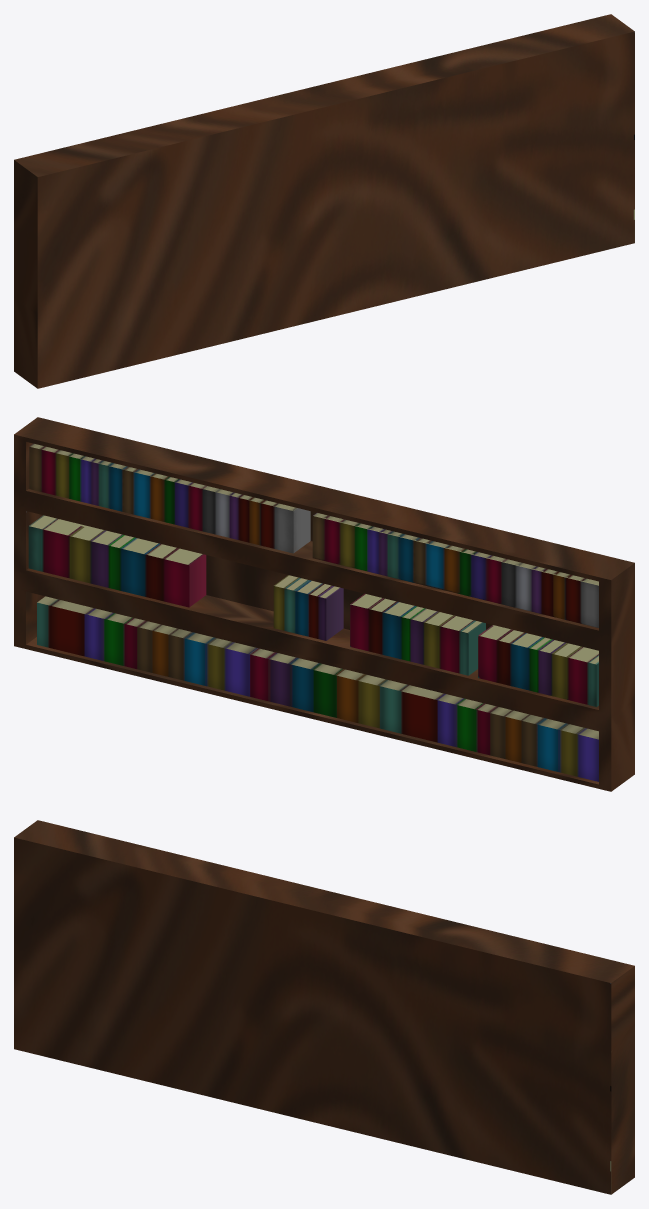
File: shelving02.obj
3 views of the same model, one above another, from view 1: azimuth 30°, elevation 25°; view 2: azimuth 150°, elevation 25°; view 3: azimuth 330°, elevation 25° (orthographic).
Parts seen in each view (by area): view 1: Estanteria.006_Cube.035; view 2: Estanteria.006_Cube.035; view 3: Estanteria.006_Cube.035.
Boxes of the visible parts, x1,y1,x2,y2 form: Estanteria.006_Cube.035: (14,14,634,388); Estanteria.006_Cube.035: (14,417,634,791); Estanteria.006_Cube.035: (14,820,634,1194).
Size of the model in its own units: 9.54 by 3.23 by 0.6579.
